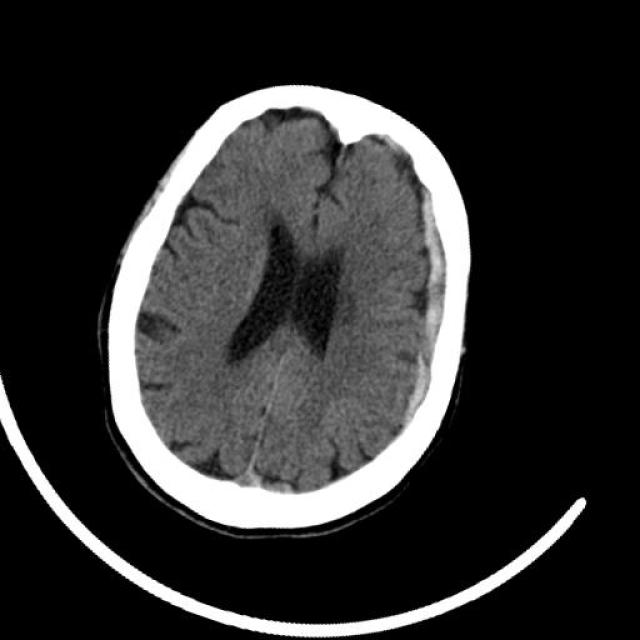Subdural: (294, 132, 575, 462)
